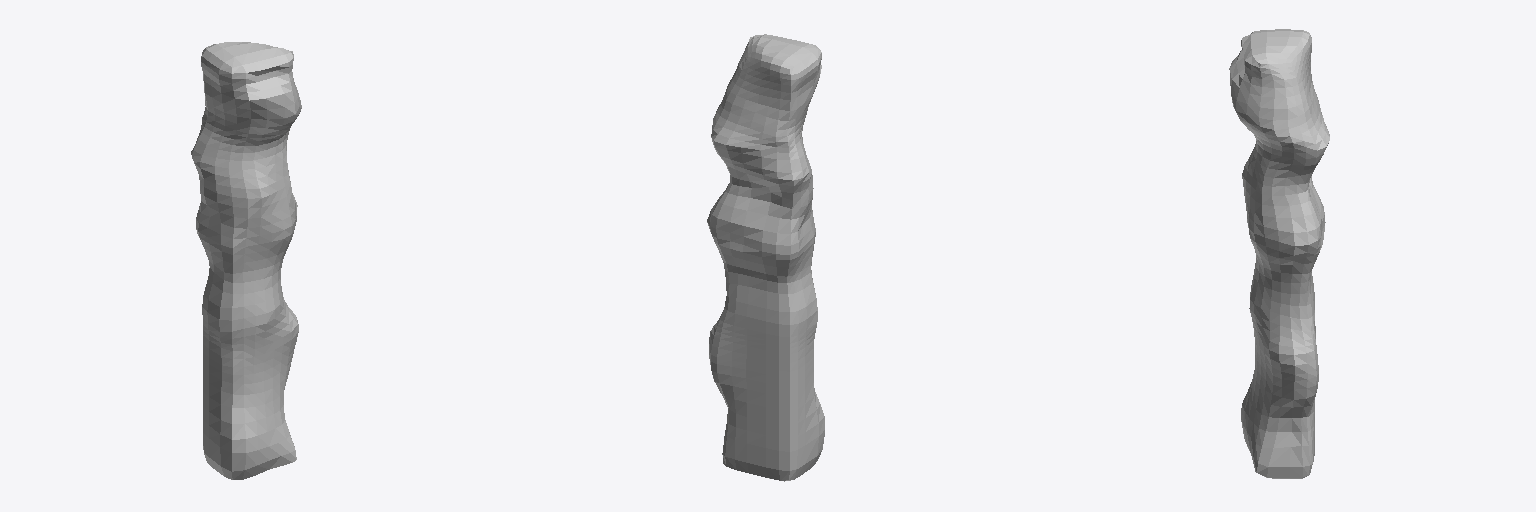
File: PM3D_rock015_002.OBJ
3 renders of one model, left to right at view 1: azimuth 30°, elevation 25°; view 2: azimuth 150°, elevation 25°; view 3: azimuth 270°, elevation 25°, orthographic.
Visible parts, largest first — view 1: Group12929; view 2: Group12929; view 3: Group12929.
Boxes of the visible parts, x1=… form: Group12929: x1=191, y1=42, x2=301, y2=479; Group12929: x1=707, y1=34, x2=824, y2=481; Group12929: x1=1229, y1=29, x2=1329, y2=478.
Size of the model in its own units: 1789 by 7228 by 1567.